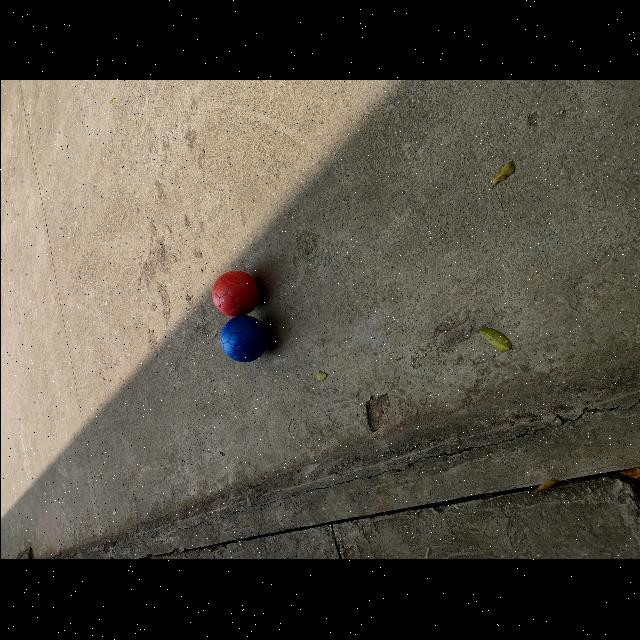B: (219, 315, 267, 364)
R: (211, 272, 258, 318)
